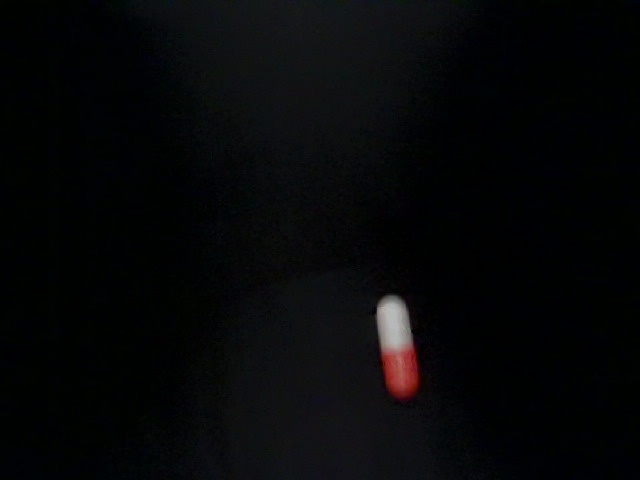YHLJ: (398, 110, 530, 179)
